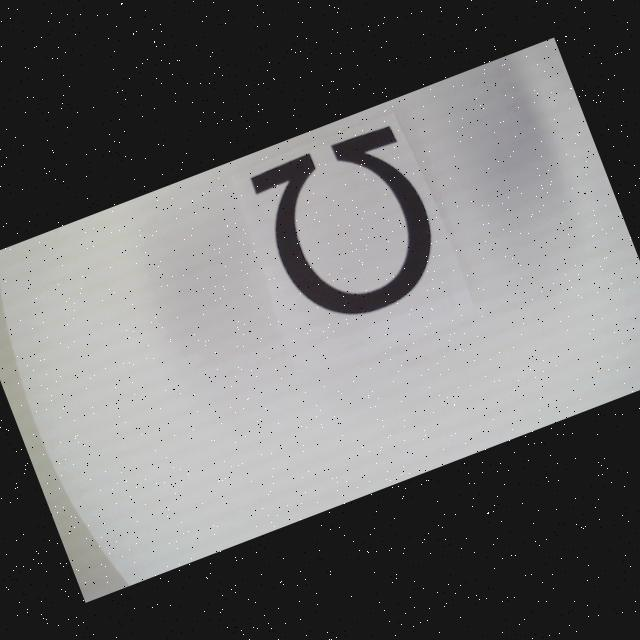OMEGA: (250, 122, 453, 335)
